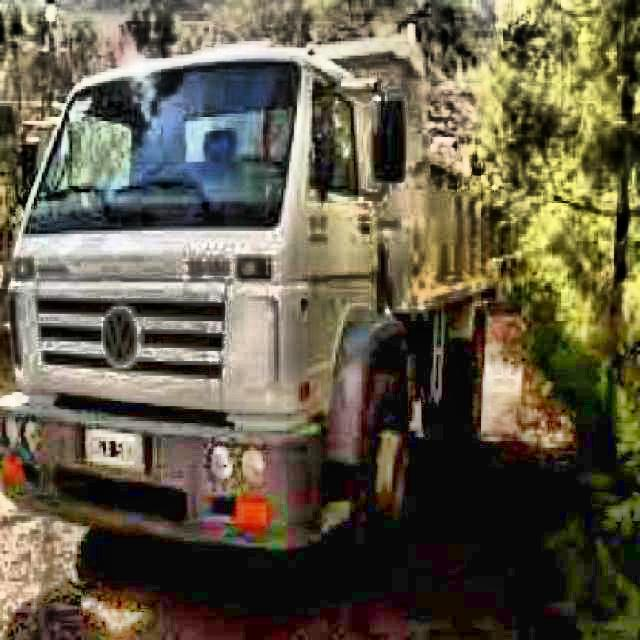dump_truck: (0, 34, 506, 600)
